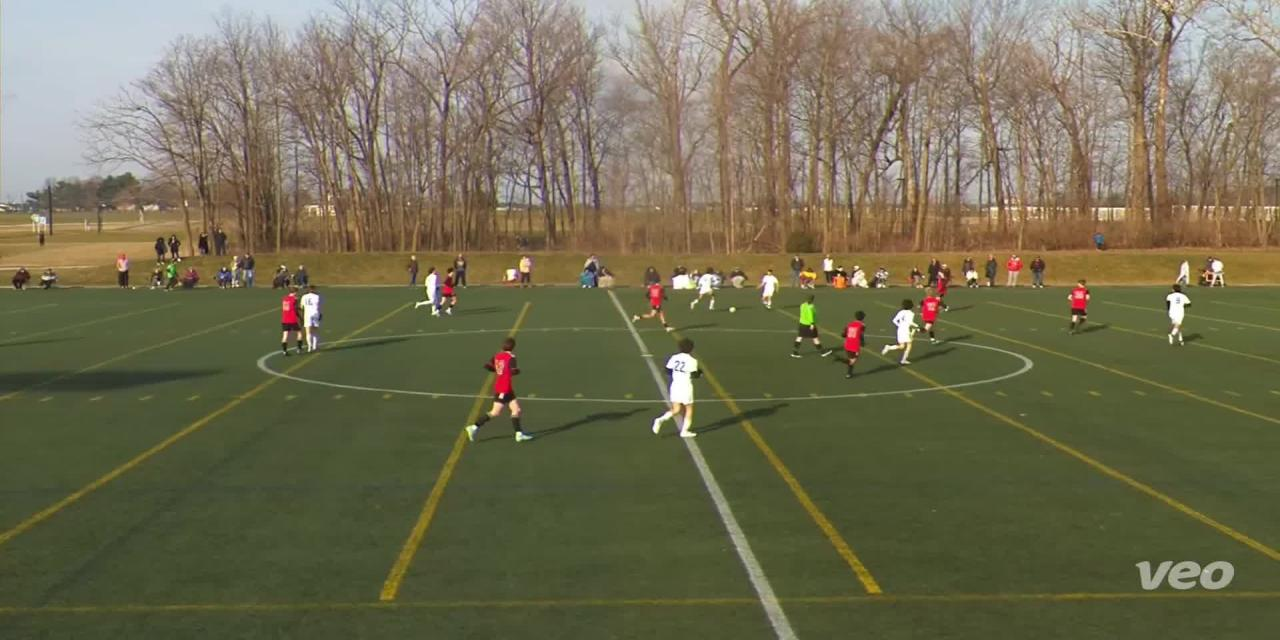sports ball: (726, 302, 742, 317)
